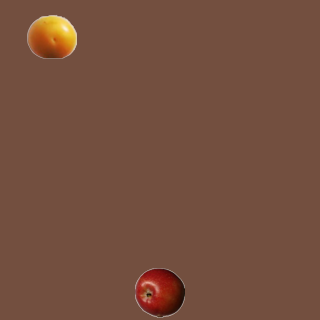Apple Braeburn: (134, 267, 184, 317)
Cherry Wax Yellow: (26, 11, 76, 61)
